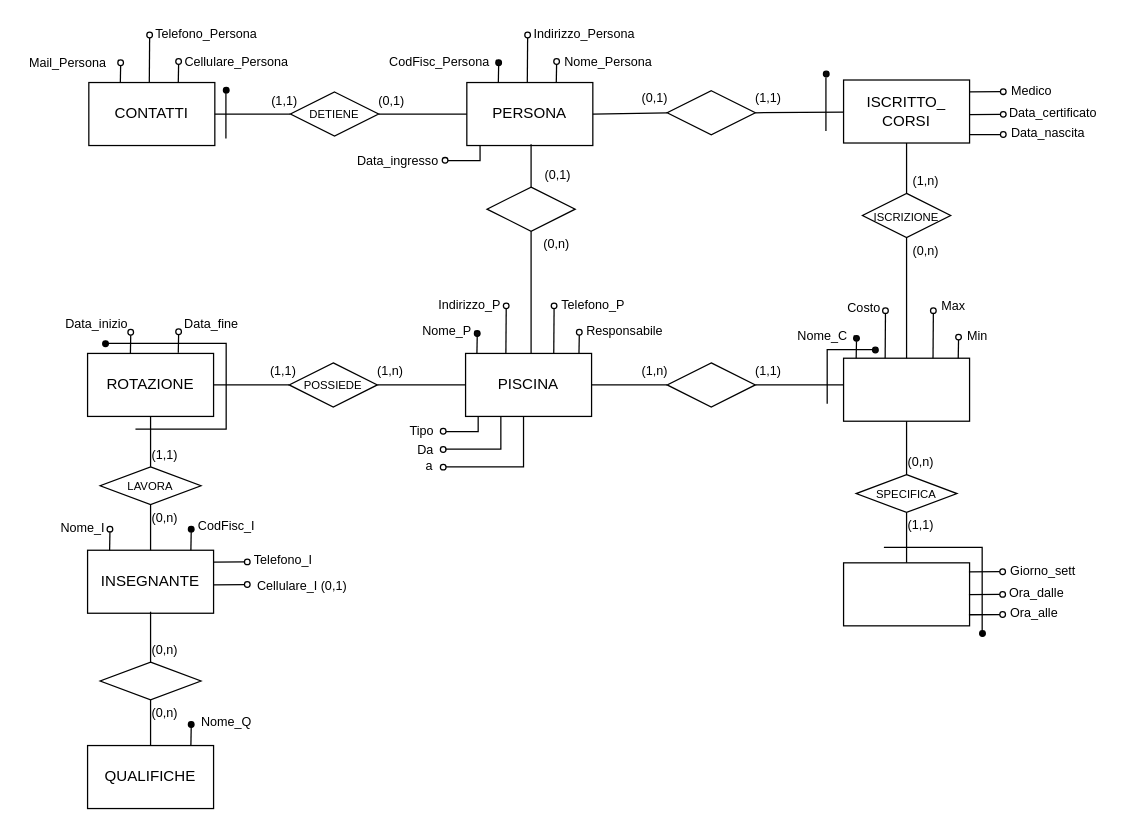
Some shapes in this 1124 by 830 pixel diagram are drawn without their labels. Each missing label, with the centre of its shape:
CORSO: (x=906, y=389)
E': (x=710, y=112)
HA: (x=150, y=680)
INGRESSO: (x=530, y=208)
LEZIONE: (x=906, y=594)
SVOLGE: (x=710, y=384)
